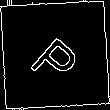P_NE: (24, 24, 86, 86)
